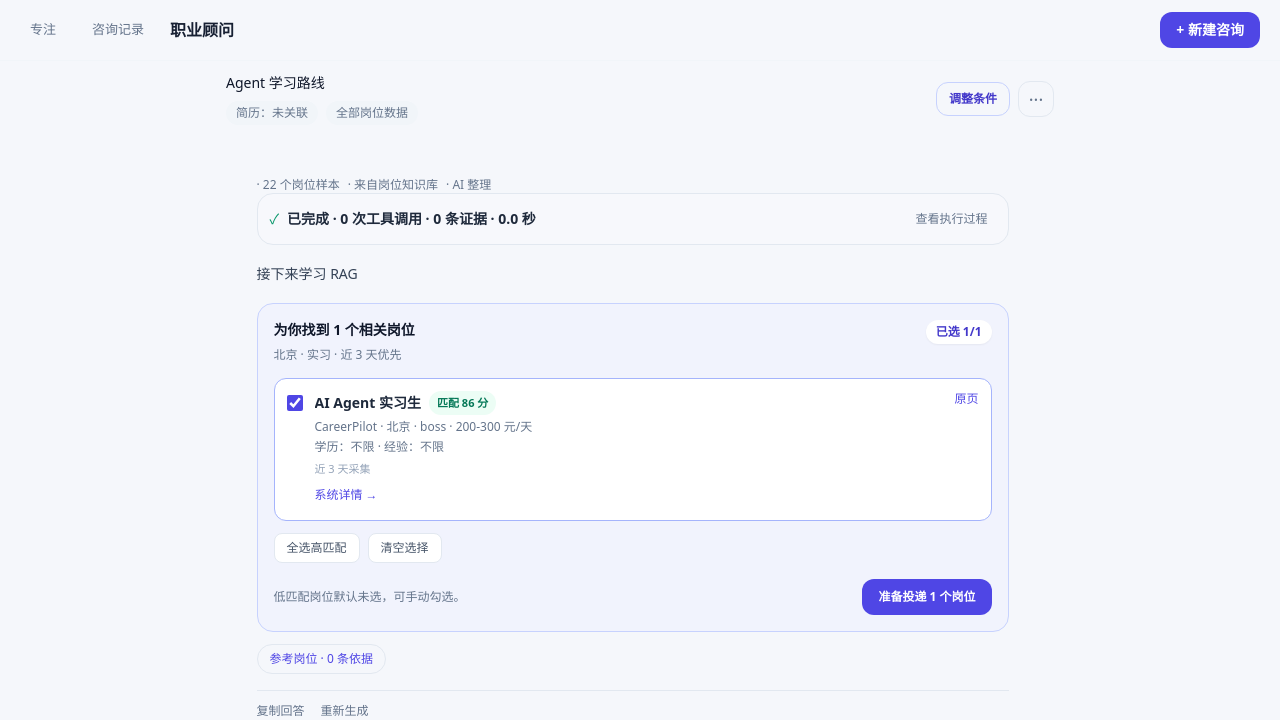
Test: keeps job search, confirmation, and progress inside the chat
Expected: the element named "岗位候选" is shown, [256,303,1008,632]
Click the button "准备投递 1 个岗位": (927, 597) [862,579,992,615]
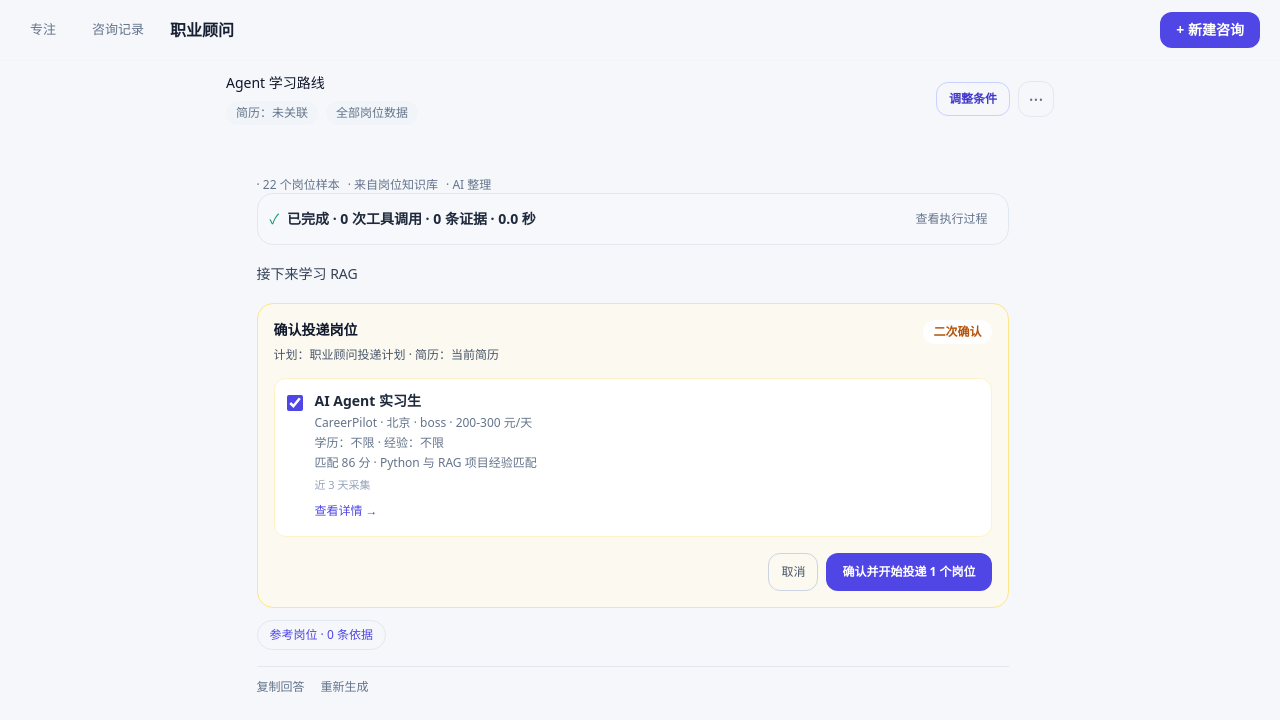
Expected: the element named "投递确认" is shown, [256,303,1008,608]
Click the button "确认并开始投递 1 个岗位": (909, 572) [826,553,992,591]
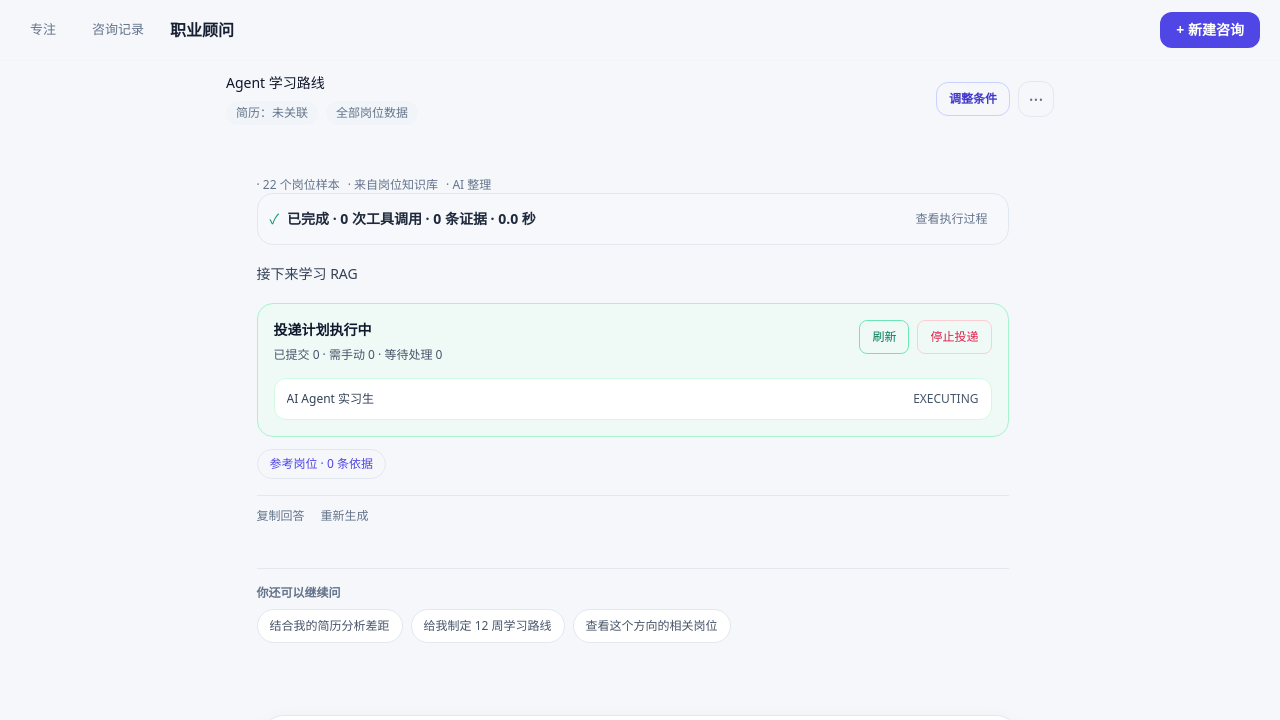
Expected: the element named "投递进度" is shown, [256,303,1008,437]
